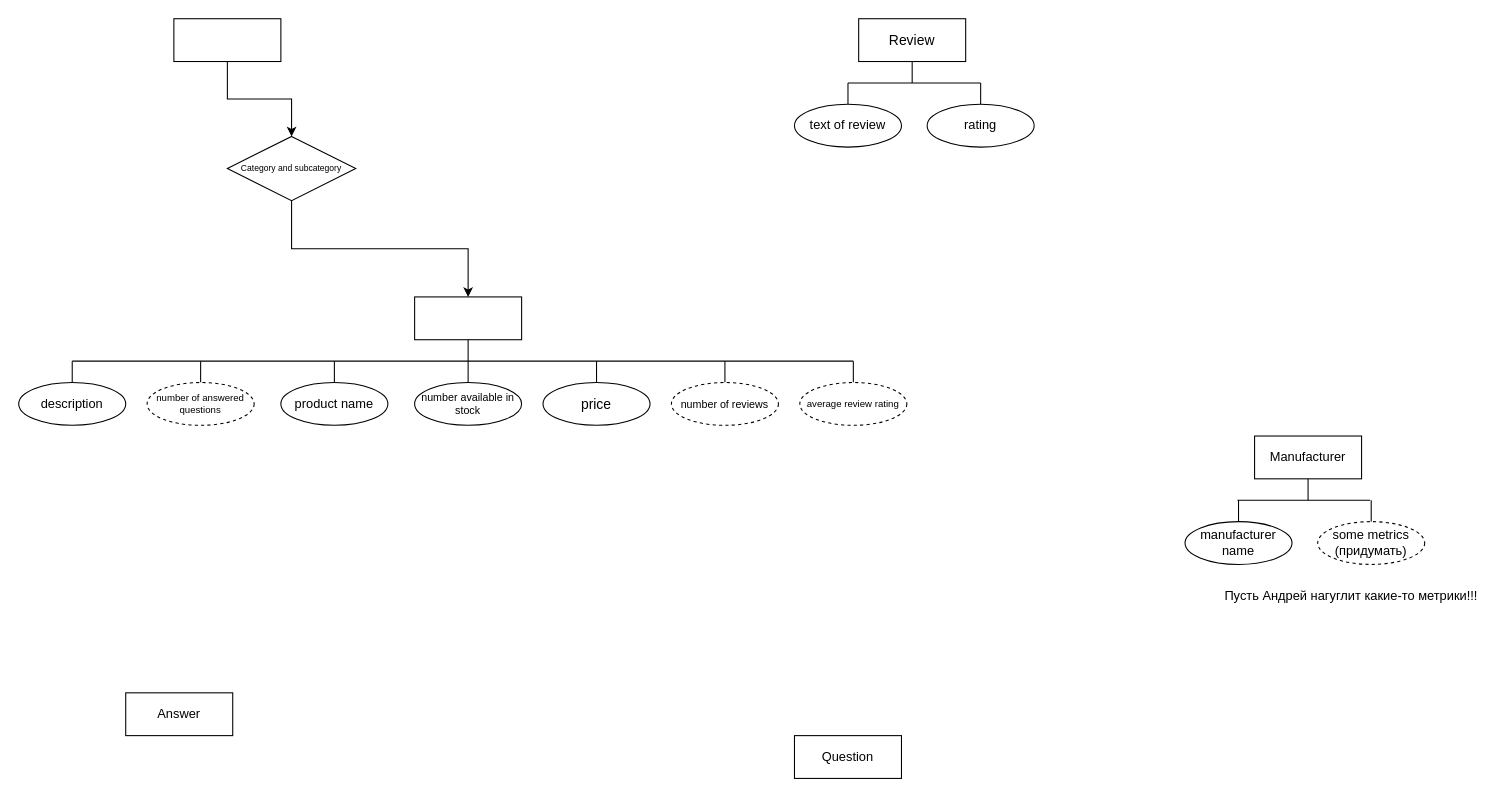
Image size: 1509x797. Some labels were removed from this diagram. The shapes that lost their labels are listed below. From the top down, each one's centre as x and y in pixels, then its label:
the point at 227,40: Categories
the point at 468,318: Item
